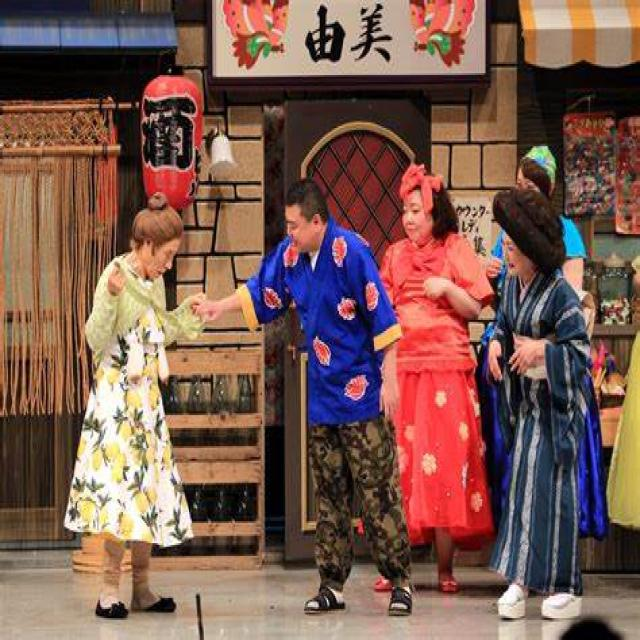stand: (240, 165, 390, 630), (476, 192, 602, 630), (481, 133, 609, 564), (80, 190, 212, 602), (374, 131, 457, 629)
